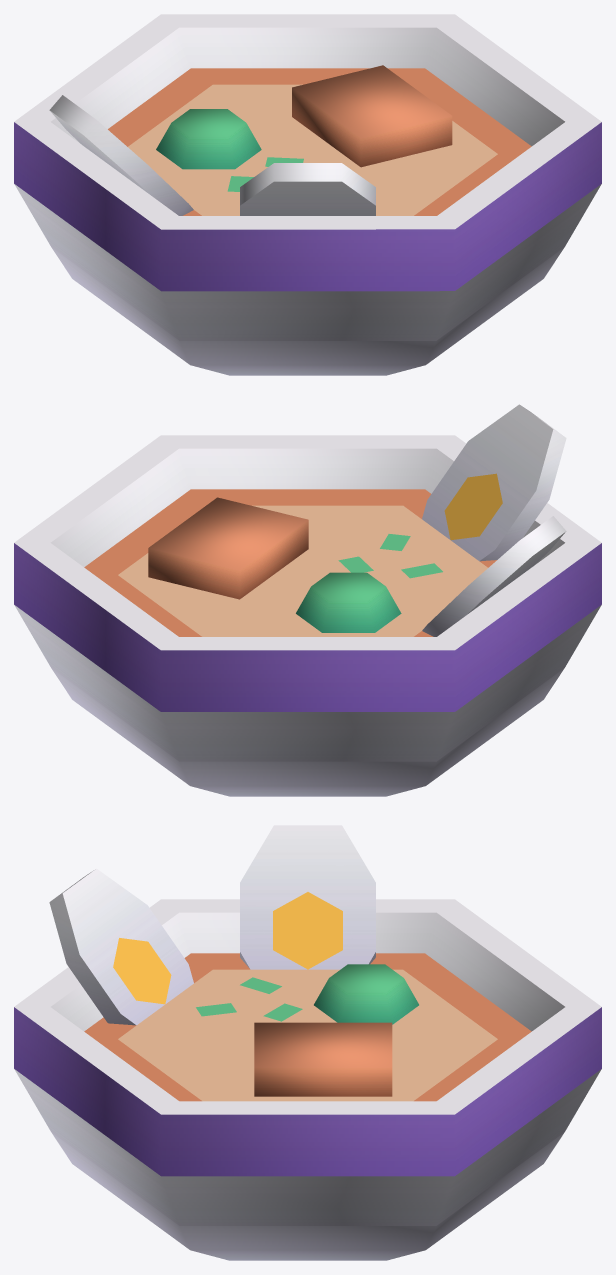
File: bowl-broth.glb
The picture shows the model from 3 angles, top to bottom: view 1: azimuth 30°, elevation 25°; view 2: azimuth 150°, elevation 25°; view 3: azimuth 270°, elevation 25°; orthographic projection.
Visible parts, largest first — view 1: bowl-broth, Group; view 2: bowl-broth, Group; view 3: bowl-broth, Group.
Boxes of the visible parts, x1,y1,x2,y2 form: bowl-broth: (14, 14, 601, 375); Group: (156, 109, 261, 169); bowl-broth: (14, 404, 601, 796); Group: (296, 572, 401, 632); bowl-broth: (14, 825, 601, 1260); Group: (314, 964, 418, 1024).
Size of the model in its own units: 0.5262 by 0.2903 by 0.5798.
1 material, 1 textured.
